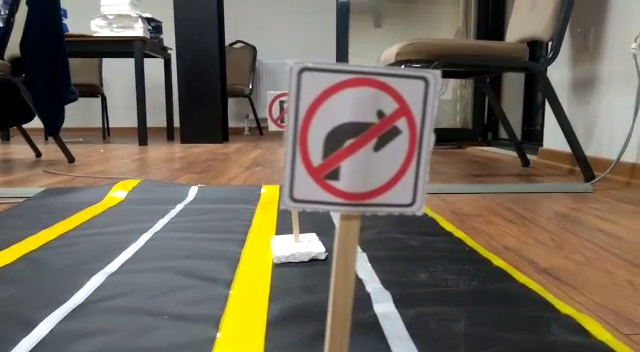saga_donulmez: (299, 69, 417, 208)
